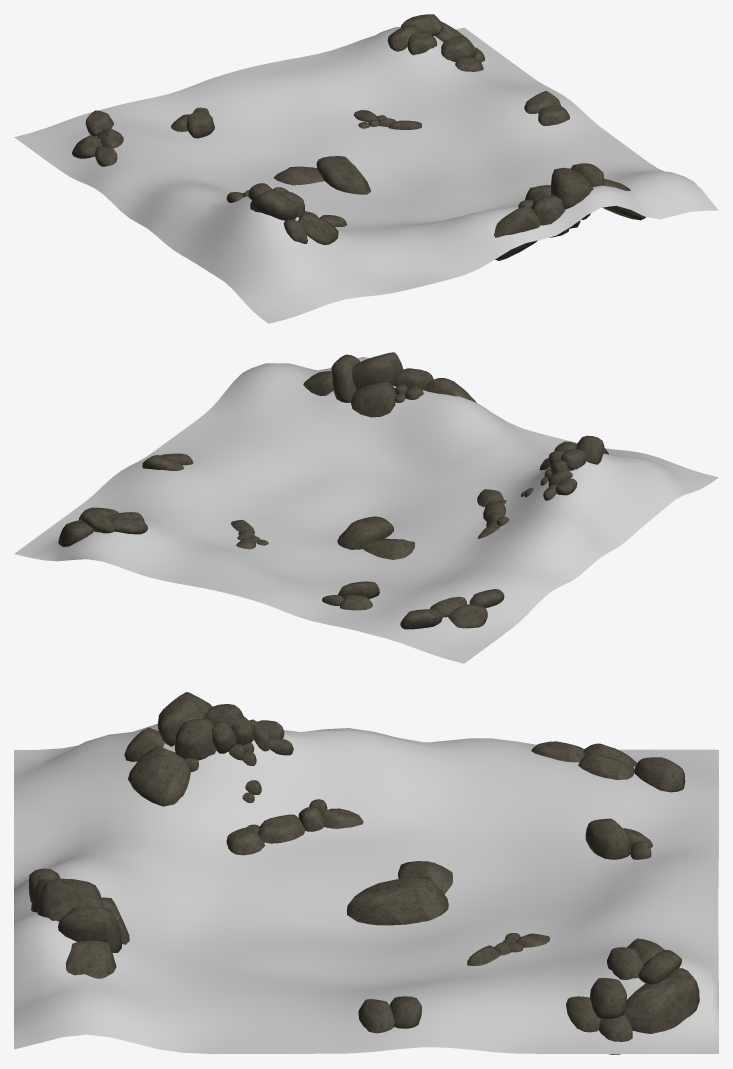
The model's file is testa.obj.
3 renders of one model, top to bottom at view 1: azimuth 30°, elevation 25°; view 2: azimuth 150°, elevation 25°; view 3: azimuth 270°, elevation 25°, orthographic. The views are drawn at different scales.
Visible parts, largest first — view 1: pPlane1, group1 pCube55, group1 pCube43, group1 pCube40, group1 pCube21, group1 pCube11, group1 pCube39, group1 pCube56, group1 pCube34, group1 pCube23, group1 pCube32, group1 pCube30 (+3 smaller); view 2: pPlane1, group1 pCube43, group1 pCube42, group1 pCube55, group1 pCube41, group1 pCube56, group1 pCube29, group1 pCube26, group1 pCube36, group1 pCube39, group1 pCube40, group1 pCube21 (+4 smaller); view 3: pPlane1, group1 pCube55, group1 pCube36, group1 pCube11, group1 pCube41, group1 pCube43, group1 pCube47, group1 pCube21, group1 pCube23, group1 pCube7, group1 pCube26, group1 pCube34 (+15 smaller).
Boxes of the visible parts, x1,y1,x2,y2 form: pPlane1: (14,27,718,323); group1 pCube55: (316,156,370,194); group1 pCube43: (551,167,593,219); group1 pCube40: (494,205,540,260); group1 pCube21: (250,189,297,220); group1 pCube11: (298,213,338,245); group1 pCube39: (531,195,569,237); group1 pCube56: (273,166,323,185); group1 pCube34: (441,35,475,61); group1 pCube23: (186,110,214,138); group1 pCube32: (401,14,443,35); group1 pCube30: (407,32,437,55); pPlane1: (14,357,718,663); group1 pCube43: (351,352,403,389); group1 pCube42: (350,382,395,417); group1 pCube55: (337,516,393,549); group1 pCube41: (331,354,360,402); group1 pCube56: (363,538,414,559); group1 pCube29: (448,604,487,628); group1 pCube26: (400,609,442,629); group1 pCube36: (58,520,93,546); group1 pCube39: (393,368,433,390); group1 pCube40: (424,378,476,402); group1 pCube21: (576,435,604,464); pPlane1: (14,724,718,1053); group1 pCube55: (347,877,448,925); group1 pCube36: (624,968,699,1033); group1 pCube11: (128,747,190,806); group1 pCube41: (58,906,122,952); group1 pCube43: (37,878,103,921); group1 pCube47: (65,940,116,978); group1 pCube21: (157,692,211,746); group1 pCube23: (585,818,630,859); group1 pCube7: (174,718,216,760); group1 pCube26: (634,757,685,792); group1 pCube34: (590,978,626,1019).
Size of the model in its own units: 23.92 by 5.18 by 23.45.
